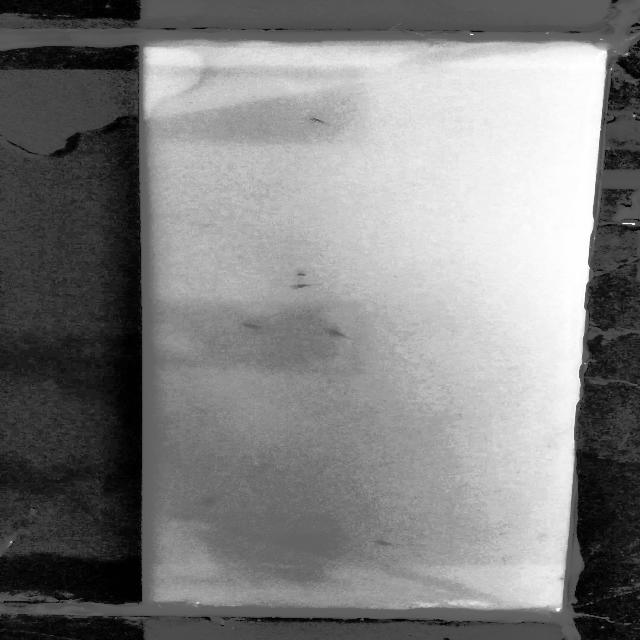shrimp: (319, 328, 355, 340), (241, 320, 271, 332), (306, 113, 329, 128), (369, 536, 396, 548), (286, 270, 325, 278), (201, 494, 226, 506), (288, 282, 320, 289)
